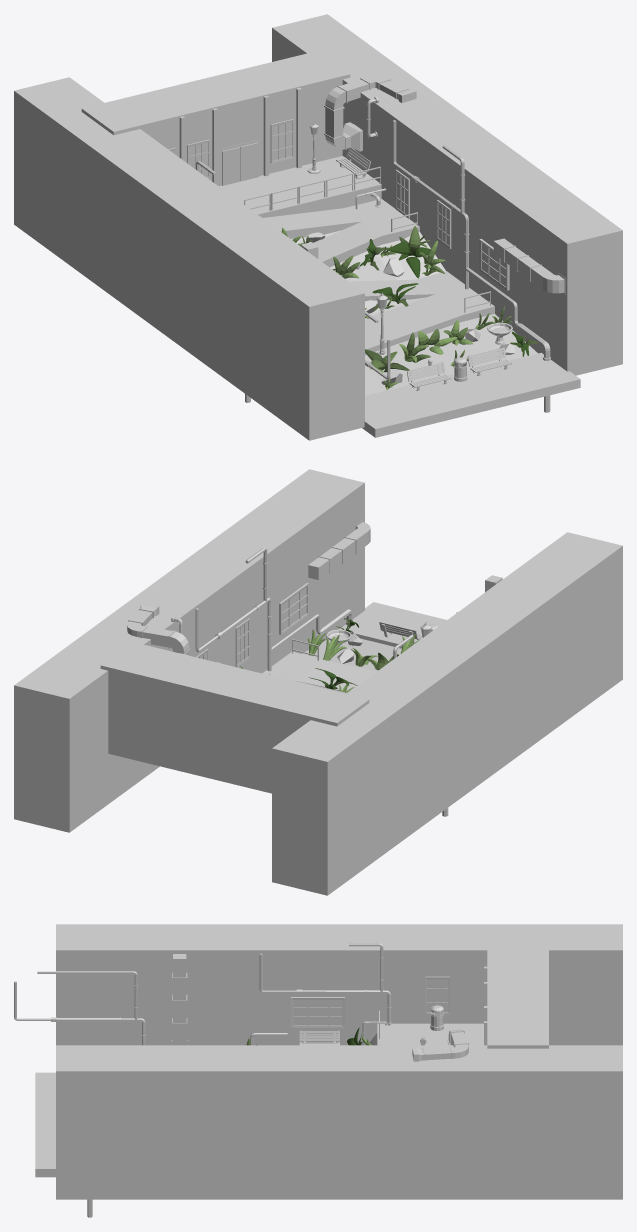
Rendered from First_Level_modeled.fbx.
3 renders of one model, top to bottom at view 1: azimuth 30°, elevation 25°; view 2: azimuth 150°, elevation 25°; view 3: azimuth 270°, elevation 25°, orthographic. The views are drawn at different scales.
Parts seen in each view (by area): view 1: Cube.002, Cube.001, Path, Cube.004, Cube.008, Airvent2_1, Tube1_4, Airvent1_1.001, Flat Leaf Plant.008, Door1_1.001, Door1_1, Window_Glass1_2; view 2: Cube.002, Cube.001, Cube.004, Path, Tube1_4, Airvent1_1.001, Airvent2_1, Cube.008, Window_Frame1_1.004; view 3: Cube.001, Cube.002, Cube.004, Path, Airvent1_1, Tube1_4.002, Window_Glass1_1.003, Tube1_4.001, Airvent2_1, Window_Frame1_1.003, Window_Glass1_1.002, Window_Frame1_1.002.
Part boxes in pixels (x1,y1,x2,y2): Cube.002: (14,77,364,440); Cube.001: (272,14,622,375); Path: (219,156,580,437); Cube.004: (81,51,350,185); Cube.008: (291,230,537,389); Airvent2_1: (324,76,416,151); Tube1_4: (392,120,550,412); Airvent1_1.001: (493,238,565,294); Flat Leaf Plant.008: (388,226,436,278); Door1_1.001: (240,142,258,181); Door1_1: (222,147,240,185); Window_Glass1_2: (272,122,291,160); Cube.002: (272,532,622,895); Cube.001: (14,469,364,832); Cube.004: (100,642,369,793); Path: (262,602,446,693); Tube1_4: (195,547,353,671); Airvent1_1.001: (308,519,370,580); Airvent2_1: (127,603,190,655); Cube.008: (302,638,401,671); Window_Frame1_1.004: (279,583,308,634); Cube.001: (56,1045,622,1199); Cube.002: (56,924,622,1045); Cube.004: (487,934,548,1048); Path: (35,1023,483,1177); Airvent1_1: (171,954,188,1045); Tube1_4.002: (14,971,145,1045); Window_Glass1_1.003: (293,999,341,1025); Tube1_4.001: (259,943,391,1025); Airvent2_1: (412,1029,468,1061); Window_Frame1_1.003: (291,997,344,1027); Window_Glass1_1.002: (426,979,448,1011); Window_Frame1_1.002: (425,976,449,1014).
Size of the model in its own units: 4327 by 2741 by 7583.
